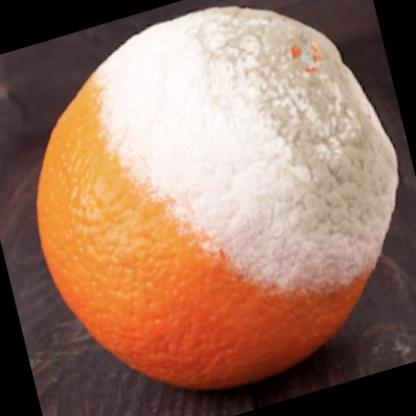rotten_orange: (25, 14, 398, 386)
